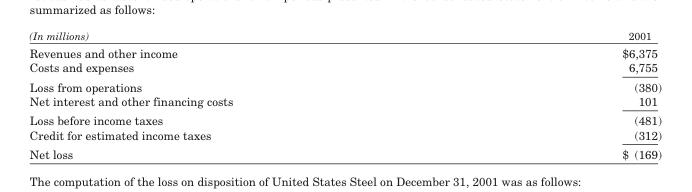table: (28, 29, 660, 160)
table column: (28, 29, 426, 160), (426, 29, 660, 160)
table column header: (28, 29, 660, 43)
table row: (28, 59, 660, 76), (28, 76, 660, 93), (28, 93, 660, 110), (28, 110, 660, 127), (28, 127, 660, 144), (28, 43, 660, 59), (28, 144, 660, 160), (28, 29, 660, 43)
